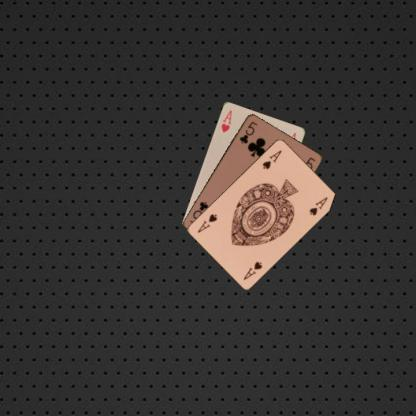5c: (237, 118, 259, 144)
Ah: (218, 108, 233, 134)
As: (260, 147, 283, 170), (241, 259, 263, 281)
